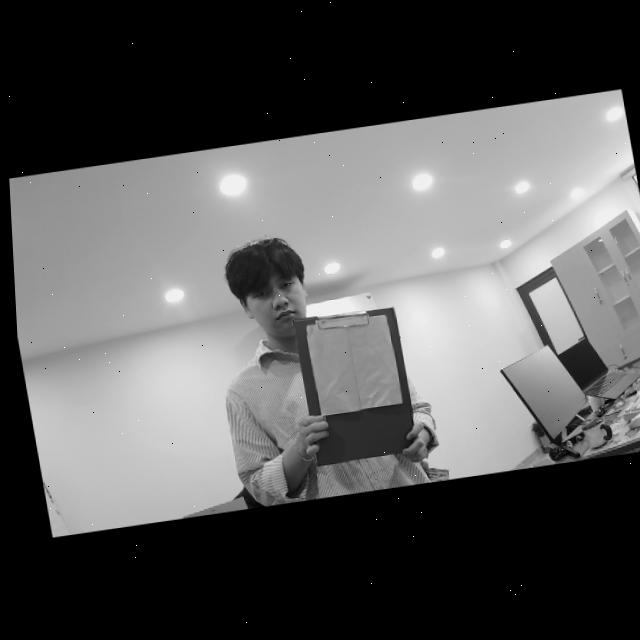face: (236, 262, 314, 345)
